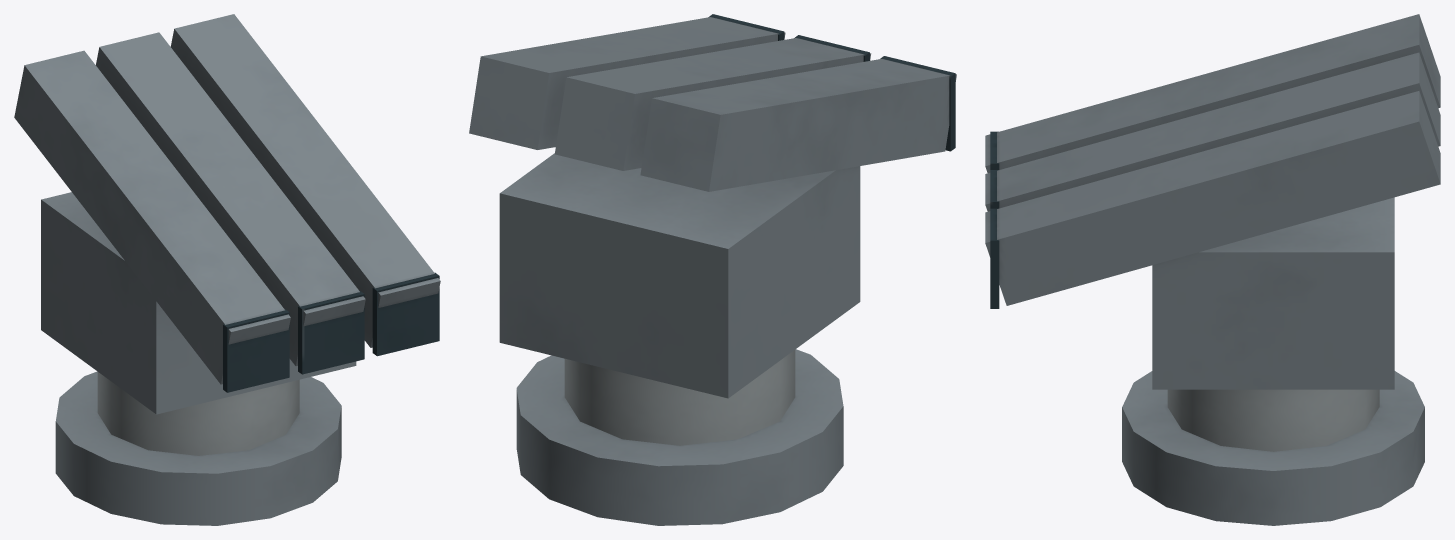
File: naval-sam.fbx
The picture shows the model from 3 angles, left to right: view 1: azimuth 30°, elevation 25°; view 2: azimuth 150°, elevation 25°; view 3: azimuth 270°, elevation 25°; orthographic projection. The views are drawn at different scales.
Visible parts, largest first — view 1: naval-sam; view 2: naval-sam; view 3: naval-sam.
Boxes of the visible parts, x1,y1,x2,y2 form: naval-sam: [14, 14, 440, 525]; naval-sam: [469, 14, 956, 525]; naval-sam: [985, 14, 1440, 525].
Size of the model in its own units: 10 by 14.36 by 15.04.
1 material, 1 textured.
